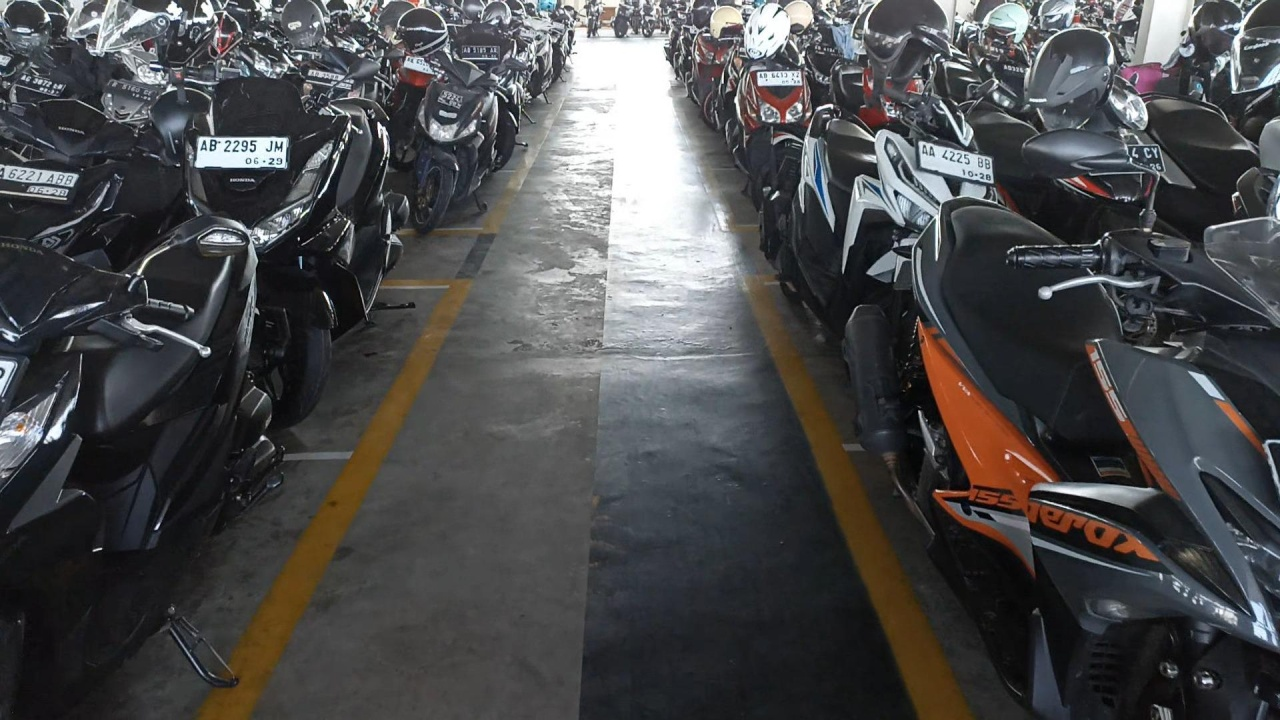plate: (917, 140, 996, 185), (193, 136, 289, 169), (756, 70, 803, 87)
